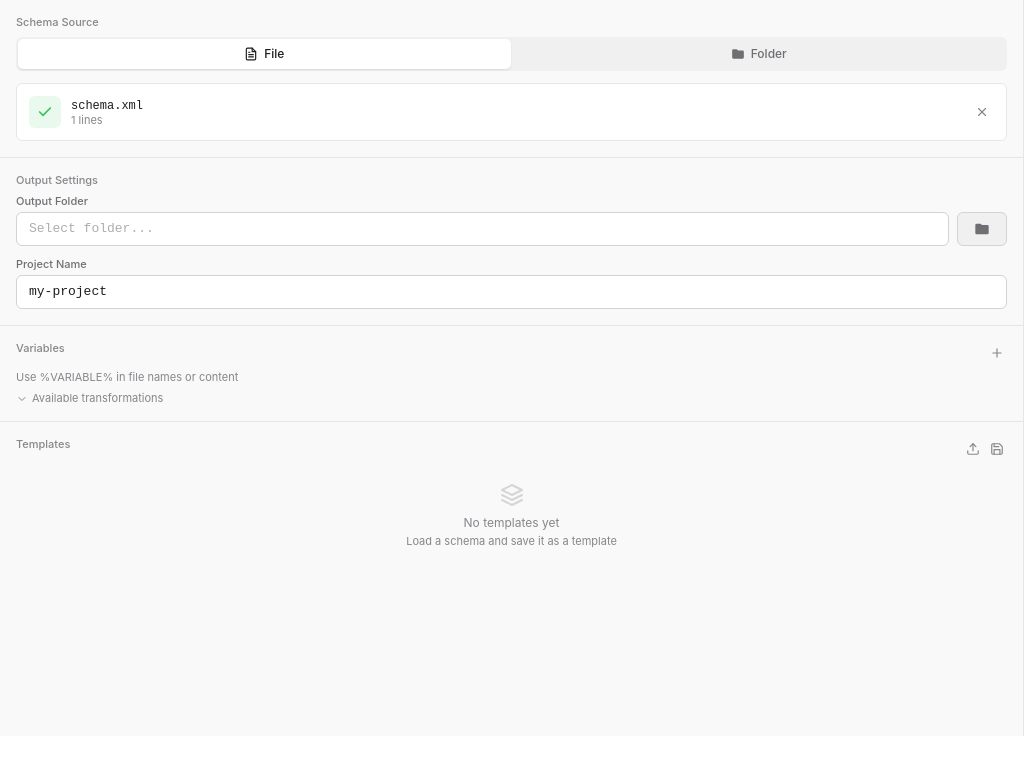
Test case: LeftPanel › Templates Section › save template form › opens save form when save button is clicked
Click the button titled "save as template". click: [997, 448]
box: [987,438,1007,458]
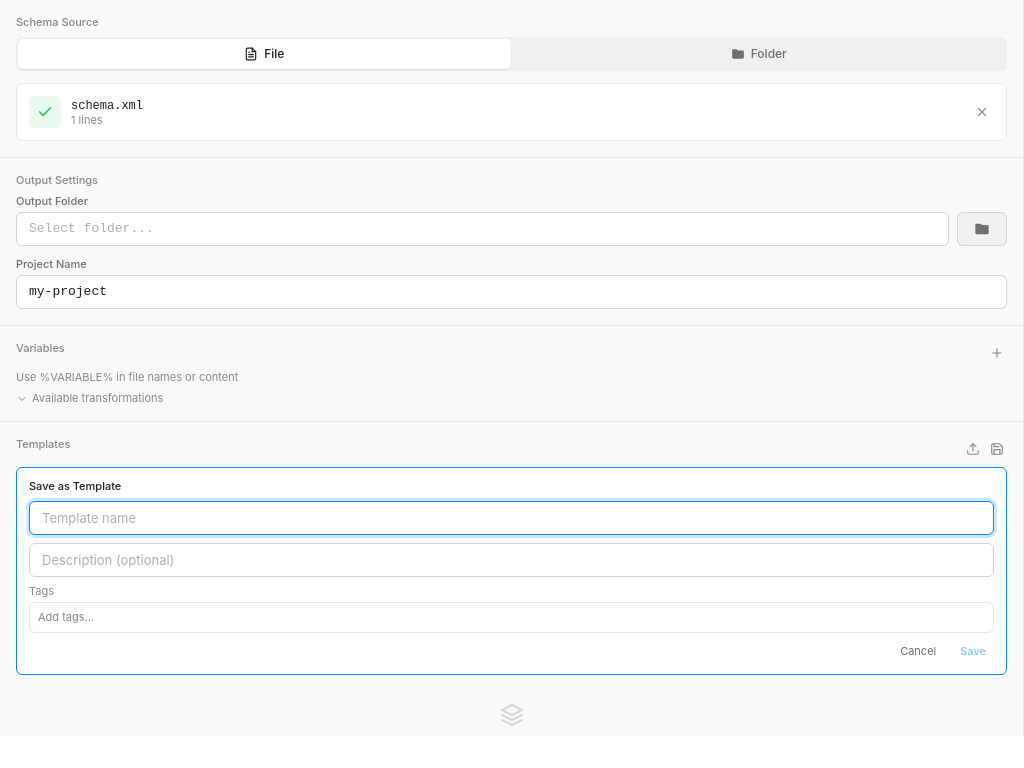
Expected: the field with placeholder "Template name" is shown, [29,501,994,535]
Expected: the field with placeholder "Description (optional)" is shown, [29,543,994,577]
